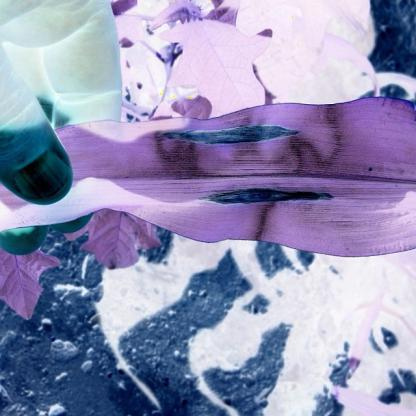corn leaf blight: (74, 99, 415, 258)
